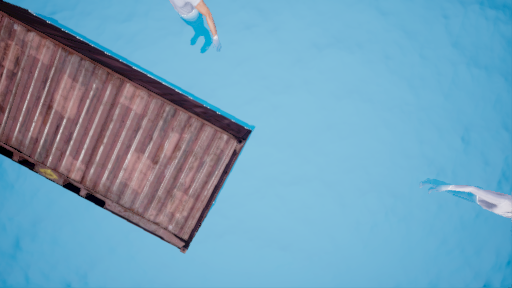person: (426, 177, 509, 221), (168, 1, 225, 51)
